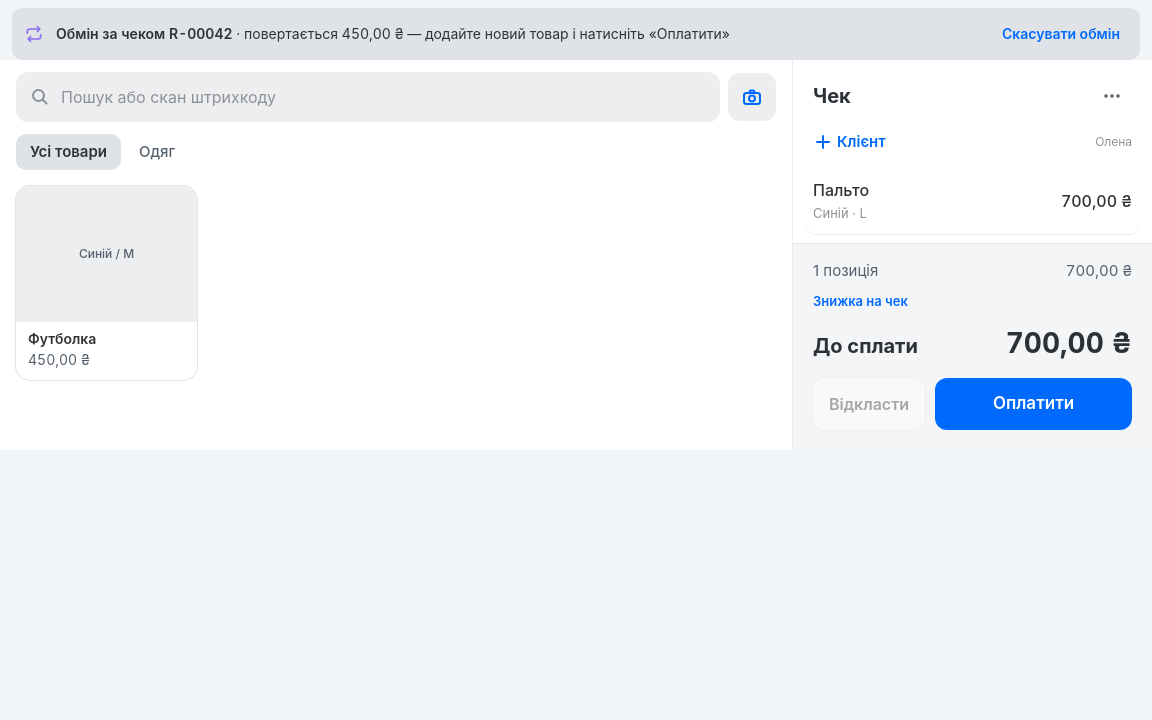
Test: RegisterPage — the sale half of an exchange › when the new receipt stands un-fiscalised, shows the exchange with the ПРРО warning
Expected: the element with test id "exchange-strip" is shown, [12,8,1140,60]
Click the button "Оплатити". click: point(1034, 404)
box: [935,378,1132,430]
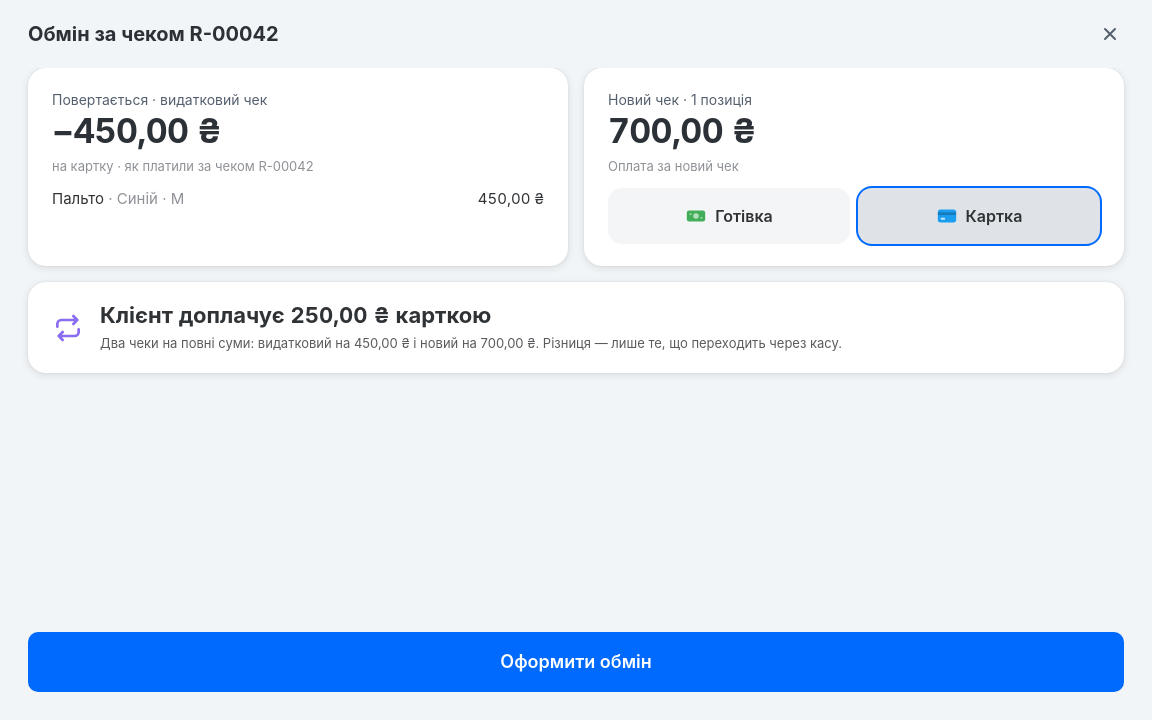
Click the button "Оформити обмін". click: point(576, 662)
box: [28,632,1124,692]
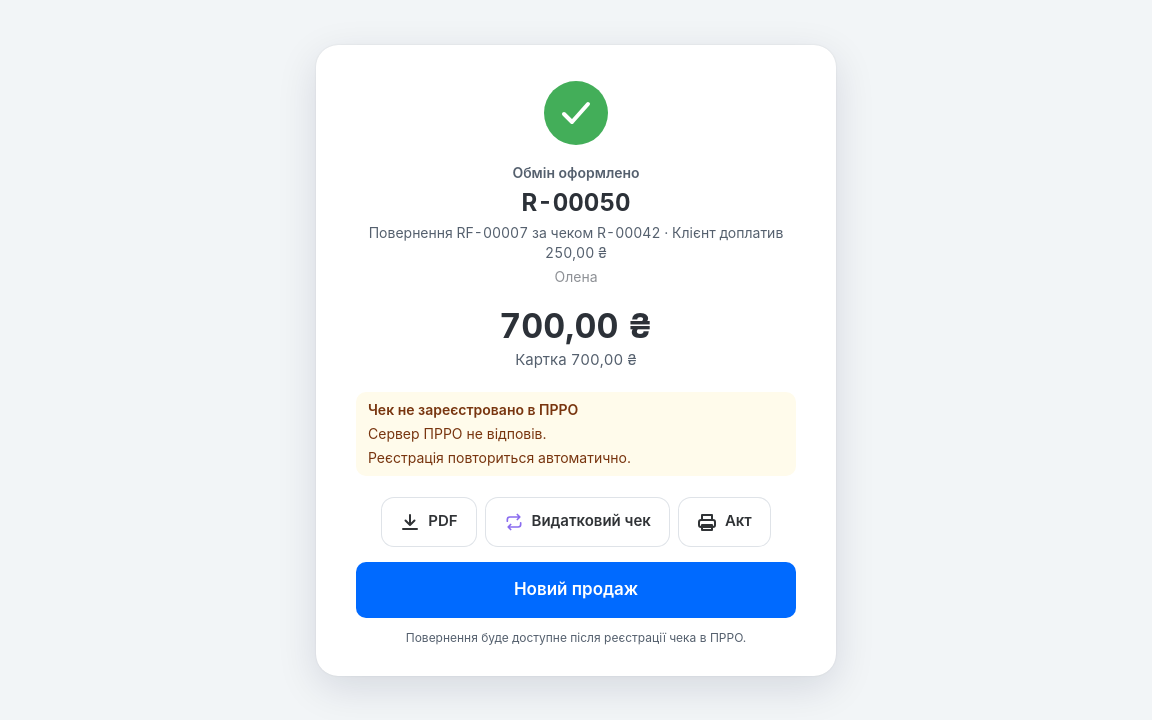
Now the text "Обмін оформлено" is shown, box [512,162,640,182]
Now the message shows "Чек не зареєстровано в ПРРО", box [368,400,578,418]
Now the text with test id "exchange-summary" shows "RF-00007", box [456,224,528,240]
